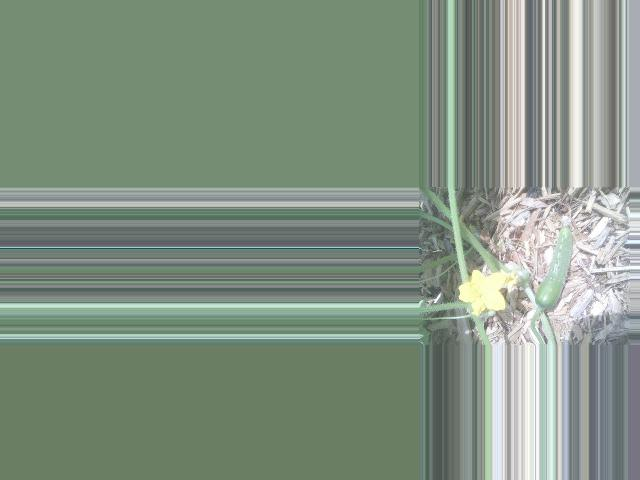cucumber: (534, 218, 573, 310)
